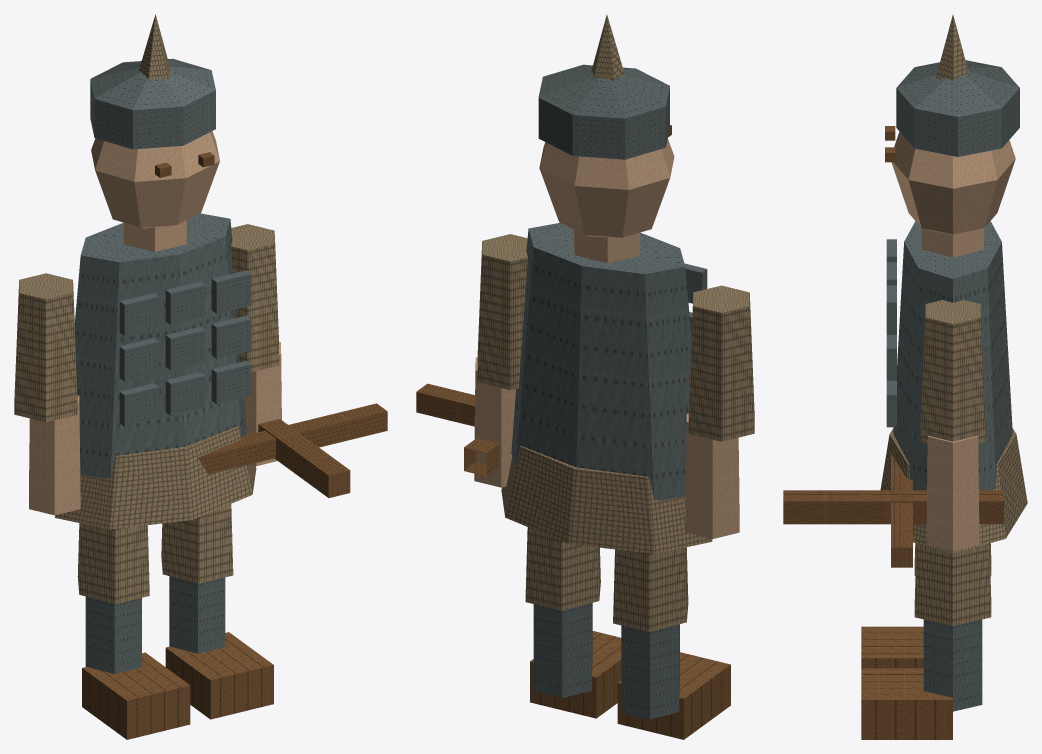
Rendered from unit-CROSSBOW-lod0.glb.
3 views of the same model, side by side, from view 1: azimuth 30°, elevation 25°; view 2: azimuth 150°, elevation 25°; view 3: azimuth 270°, elevation 25° (orthographic). The views are drawn at different scales.
Bounding box in the file's own units: 0.238 × 0.448 × 0.144.
1 material, 1 textured.
